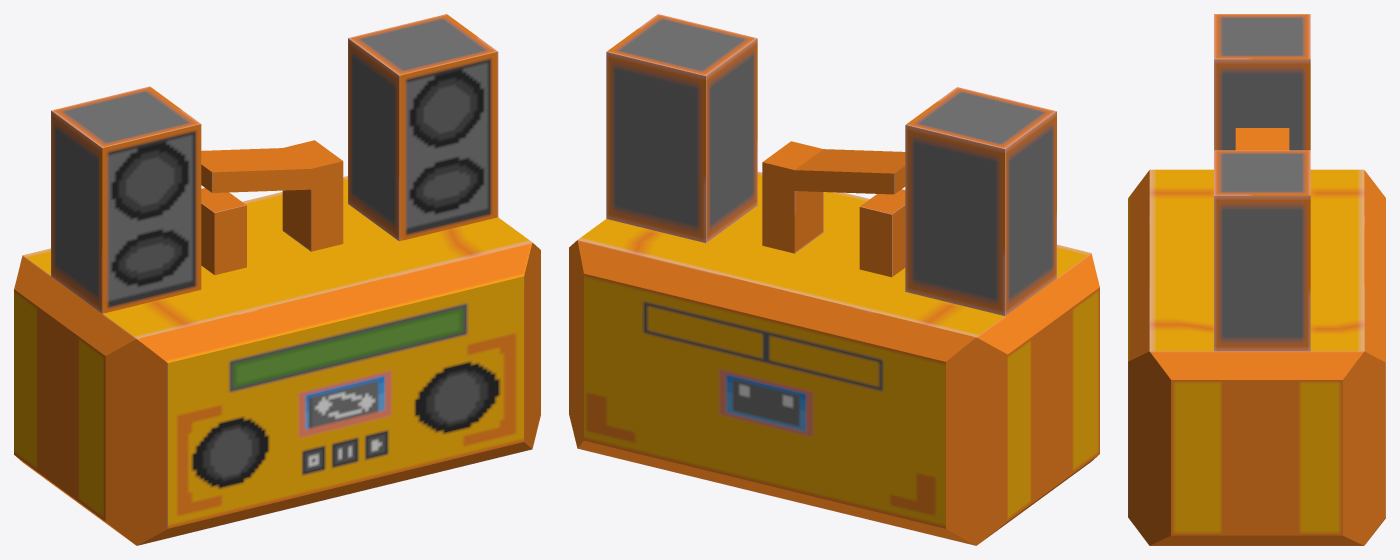
Rendered from BoomBox.fbx.
3 renders of one model, left to right at view 1: azimuth 30°, elevation 25°; view 2: azimuth 150°, elevation 25°; view 3: azimuth 270°, elevation 25°, orthographic. The views are drawn at different scales.
Parts seen in each view (by area): view 1: cuboid; view 2: cuboid; view 3: cuboid.
Boxes of the visible parts, <box> form: cuboid: <box>14,14,540,545</box>; cuboid: <box>569,14,1099,545</box>; cuboid: <box>1128,14,1385,545</box>.
Bounding box in the file's own units: 13.75 × 11.25 × 7.5.
Materials: 1 (1 with a texture image).
